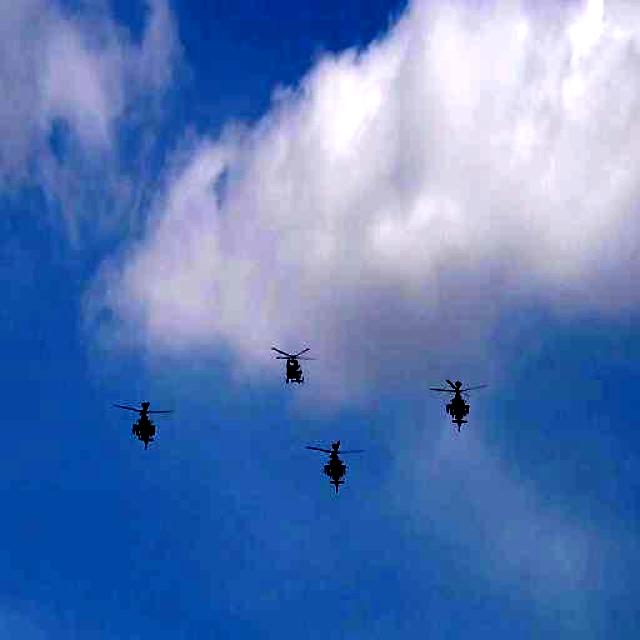drone: (434, 371, 484, 442), (119, 395, 170, 456), (278, 339, 324, 395), (314, 436, 356, 488)
